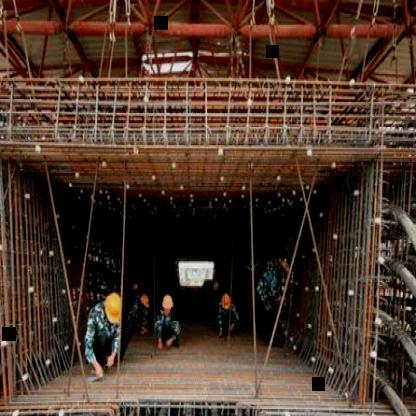helmet: (101, 290, 126, 330), (158, 293, 176, 323), (216, 289, 233, 317), (139, 289, 152, 313)
